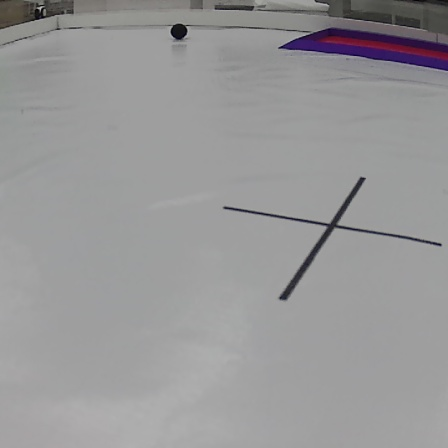black: (167, 23, 188, 41)
red_aim: (279, 26, 448, 70)
